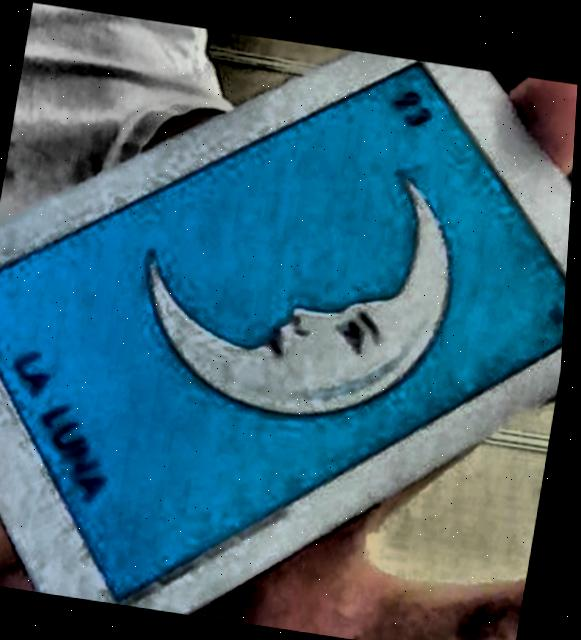La Luna: (0, 60, 569, 601)
